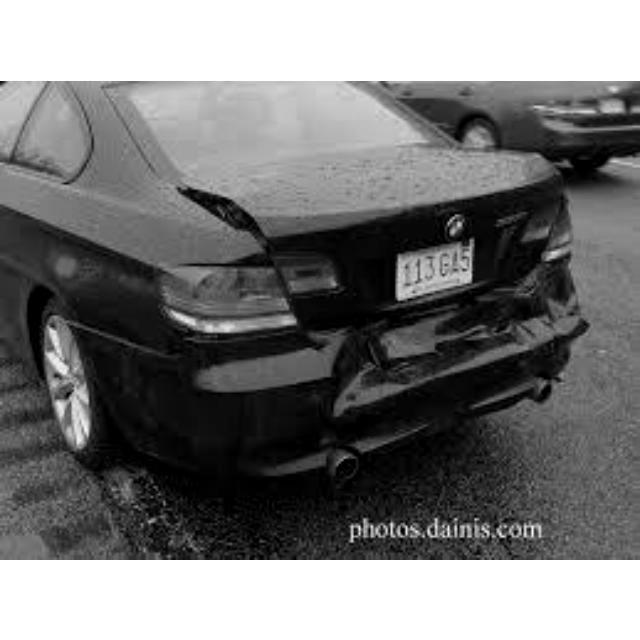boot-dent: (249, 184, 546, 310)
rear-bumper-dent: (322, 330, 517, 446)
